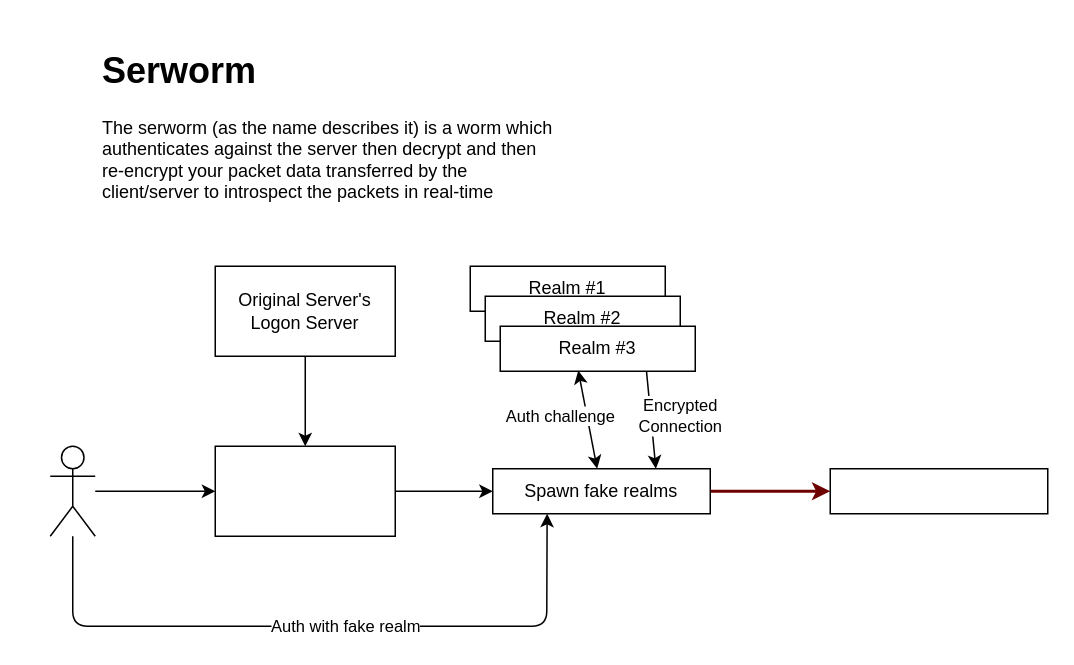
This 1074x665 diagram has some shape labels left out. Each missing label, with the centre of its shape:
"Custom packet introspection" goes at (938,490).
"Serworm Auth (localhost:5000)" goes at (304,490).
"WoW Client" goes at (72,490).
